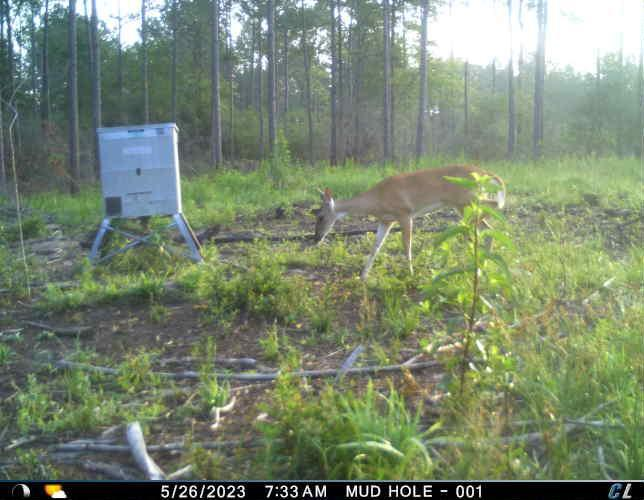Deer: (312, 160, 508, 284)
